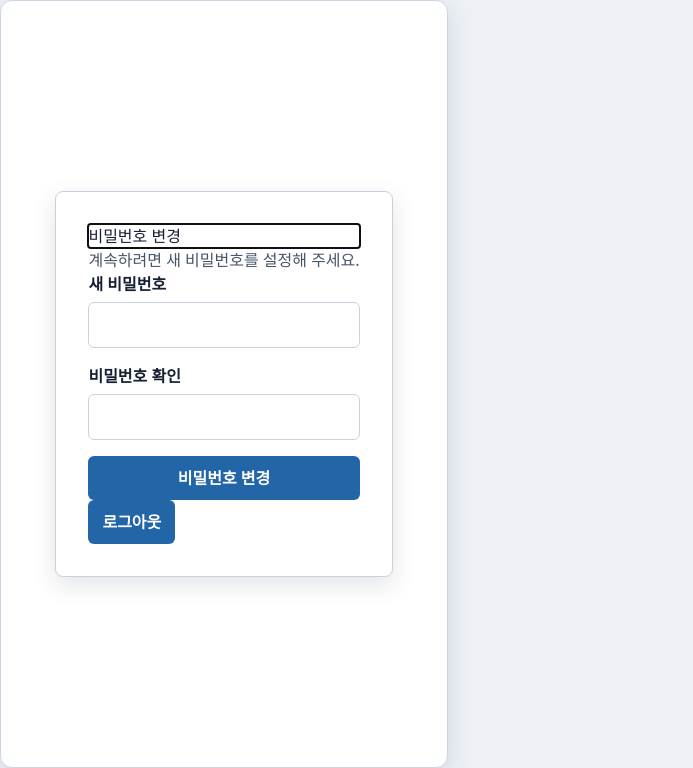
App authentication guard › logs out from the forced password-change screen after the CSRF bootstrap request
Step 1. Click the button "로그아웃" → (132, 522), box [88,500,175,544]
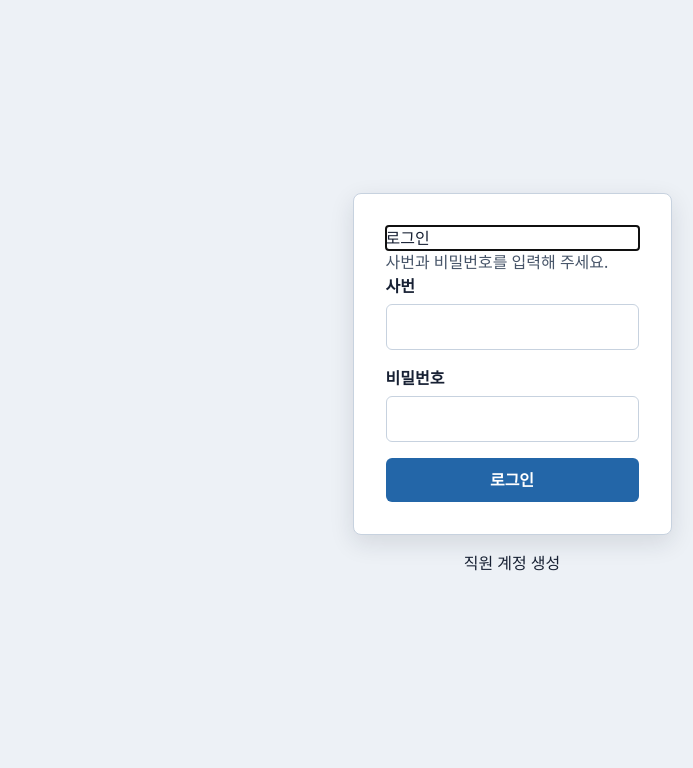
Expected: the heading "로그인" is shown, [386,227,430,249]
Expected: the heading "비밀번호 변경" is gone
